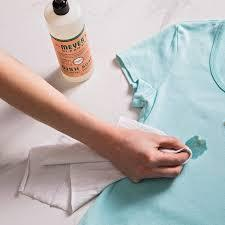mustard: (193, 134, 209, 158), (181, 134, 198, 146)
